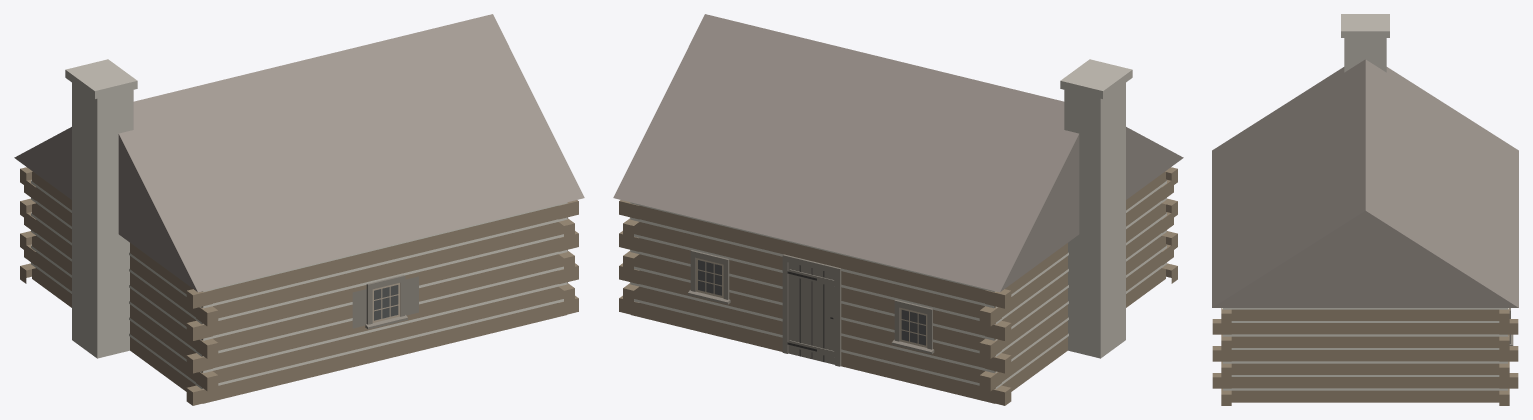
File: james_kinzie_house__dwelling_1830.glb
The picture shows the model from 3 angles, left to right: view 1: azimuth 30°, elevation 25°; view 2: azimuth 150°, elevation 25°; view 3: azimuth 270°, elevation 25°; orthographic projection. The views are drawn at different scales.
Visible parts, largest first — view 1: james_kinzie_house__dwelling_1830; view 2: james_kinzie_house__dwelling_1830; view 3: james_kinzie_house__dwelling_1830.
Part boxes in pixels (bbox=[...]): james_kinzie_house__dwelling_1830: bbox=[14, 14, 584, 405]; james_kinzie_house__dwelling_1830: bbox=[613, 14, 1183, 405]; james_kinzie_house__dwelling_1830: bbox=[1212, 14, 1518, 405].
Size of the model in its own units: 9.07 by 5.67 by 7.
